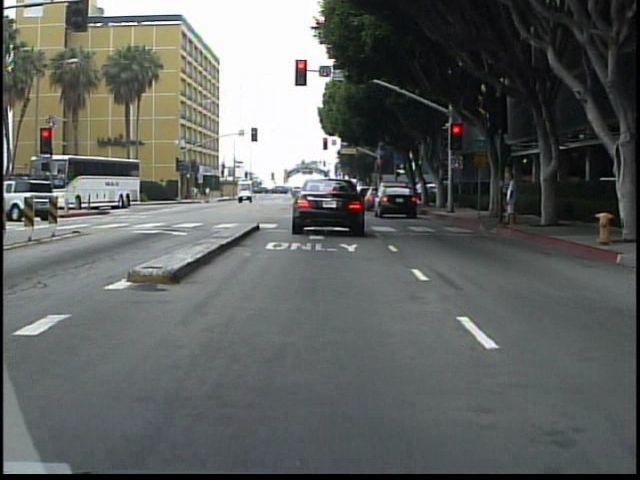person: (501, 169, 521, 228)
